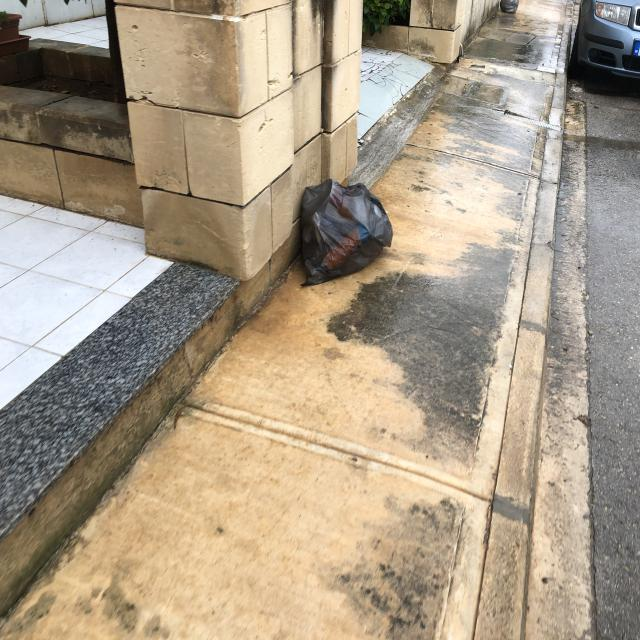Mixed Waste -Black Bag-: (303, 181, 396, 289)
